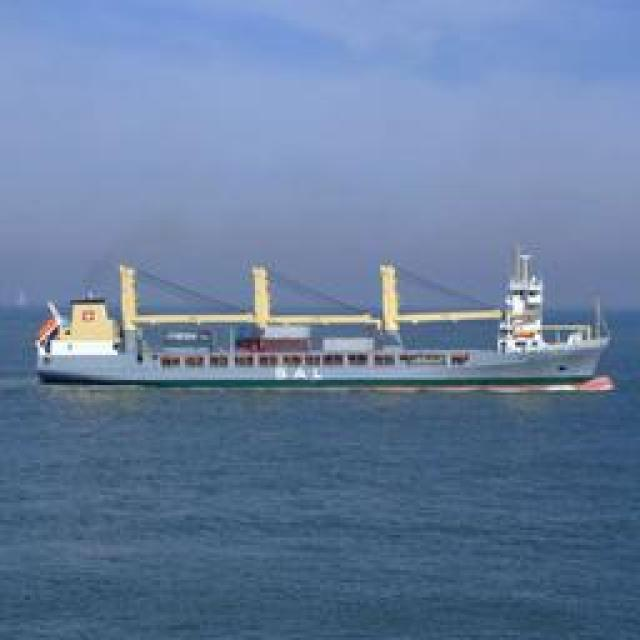ship2: (37, 246, 613, 393)
